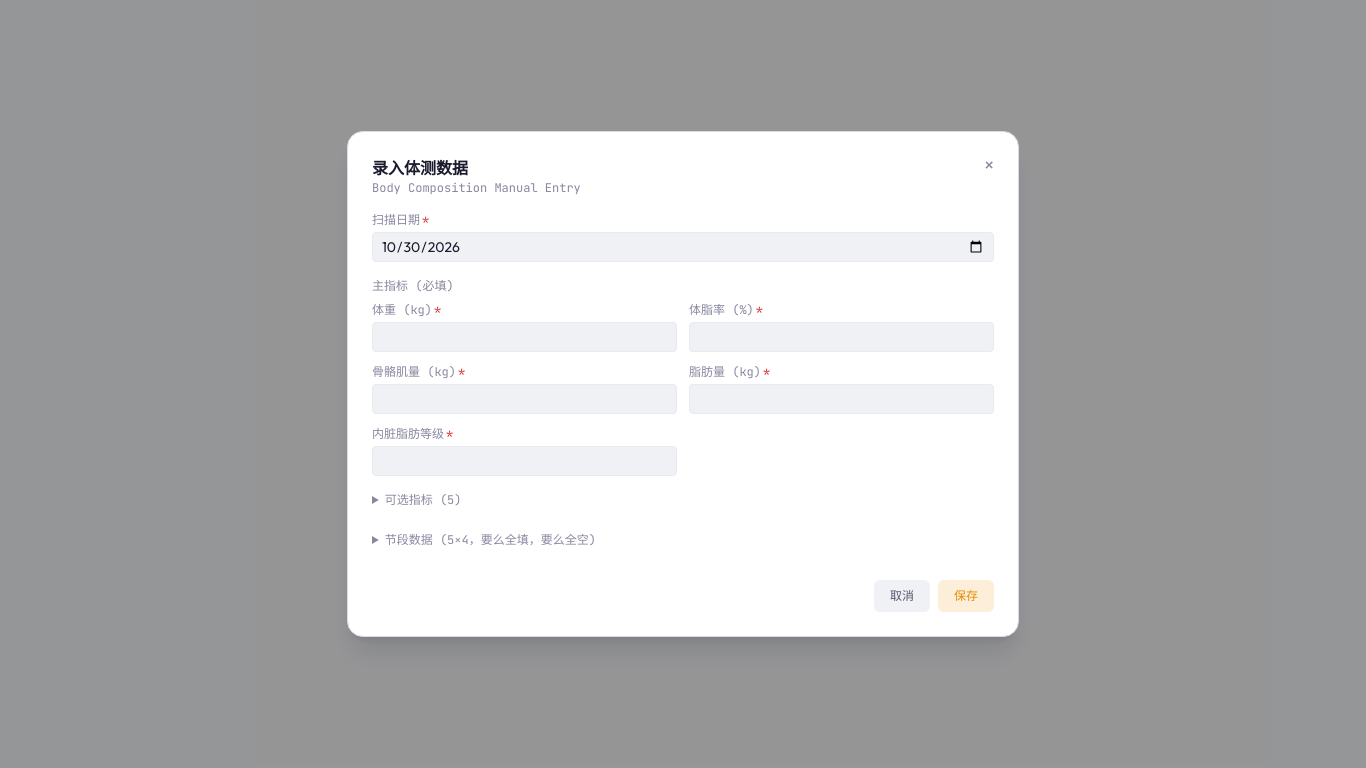
BodyCompositionEntryModal › blocks submit and shows error when required metrics are missing
Click the button "保存".
click(966, 596)  # box [938,580,994,612]
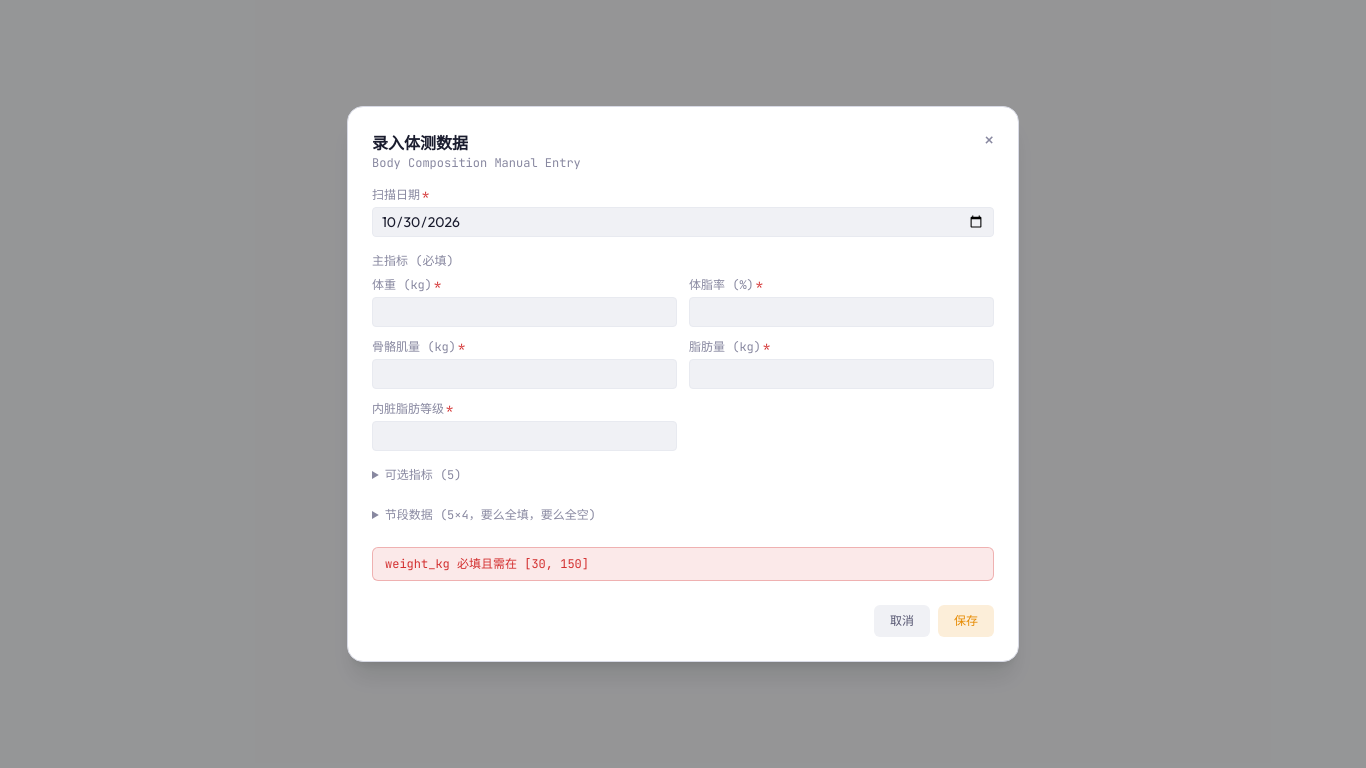
Result: the text "weight_kg 必填且需在 [30, 150]" is shown at [372,547,994,581]
